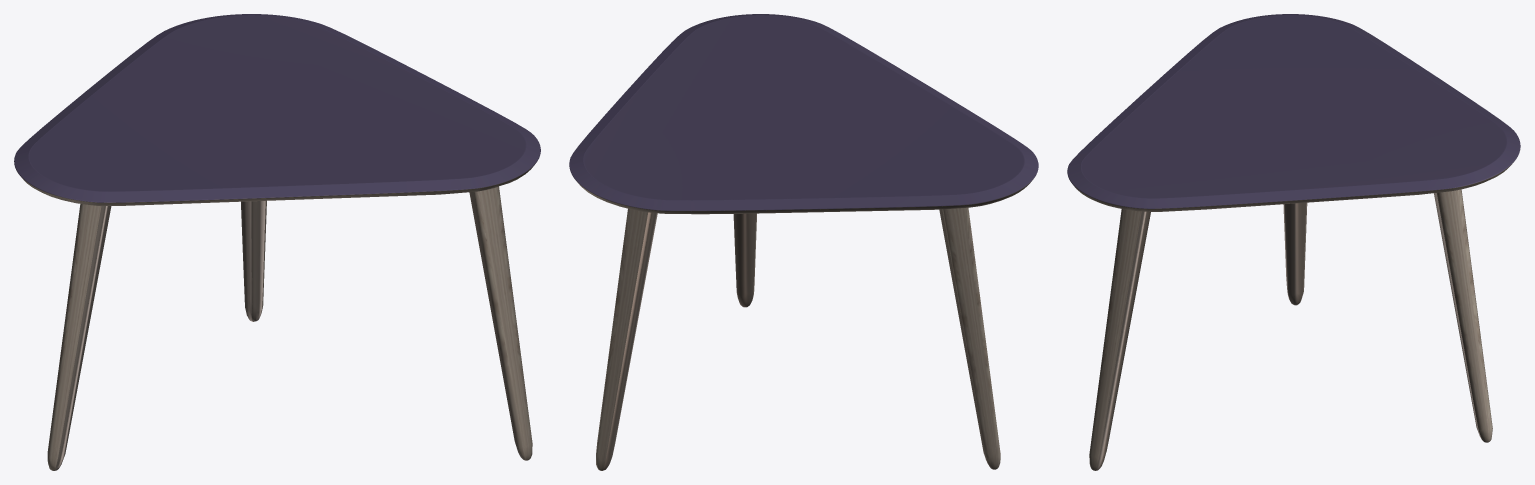
Rendered from Desk6.obj.
3 renders of one model, left to right at view 1: azimuth 30°, elevation 25°; view 2: azimuth 150°, elevation 25°; view 3: azimuth 270°, elevation 25°, orthographic. The views are drawn at different scales.
Visible parts, largest first — view 1: solid_001, solid_002, solid_003; view 2: solid_001, solid_002, solid_003; view 3: solid_001, solid_002, solid_003.
Boxes of the visible parts, left/top/right/bottom form: solid_001: left=14, top=14, right=540, bottom=202; solid_002: left=17, top=161, right=537, bottom=470; solid_003: left=51, top=192, right=529, bottom=470; solid_001: left=569, top=14, right=1038, bottom=211; solid_002: left=576, top=176, right=1035, bottom=470; solid_003: left=599, top=209, right=997, bottom=470; solid_001: left=1067, top=14, right=1520, bottom=208; solid_002: left=1069, top=162, right=1513, bottom=470; solid_003: left=1092, top=193, right=1489, bottom=470.
Size of the model in its own units: 1.7 by 1.15 by 1.67.
Materials: 1 (1 with a texture image).
